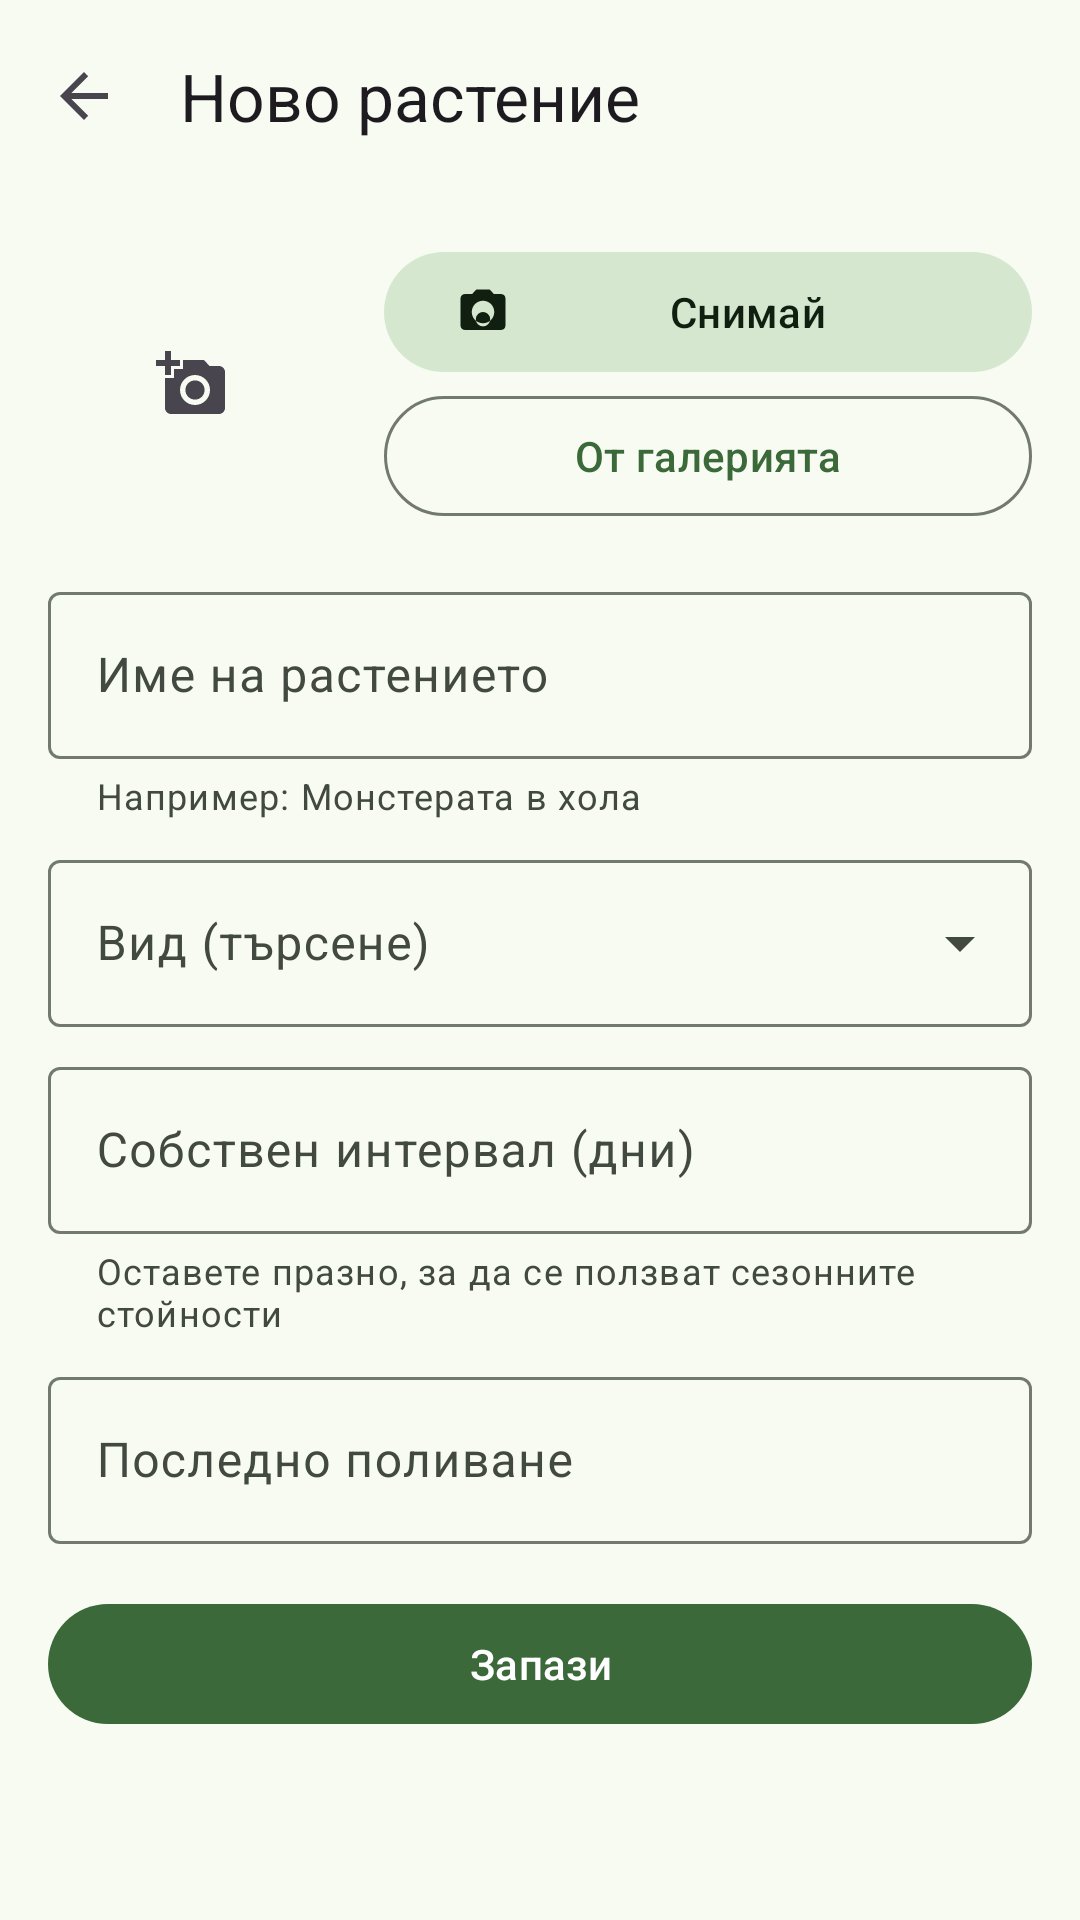

Screen size 1080*1920. Icon name, then its box in pixels as (x1, y1, x2, y2):
Снимка на растението: (156, 351, 225, 414)
